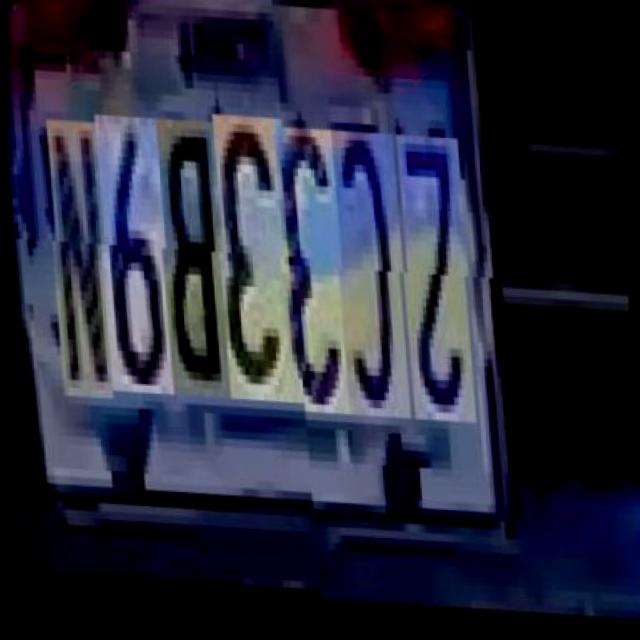2: (397, 132, 476, 423)
3: (213, 122, 293, 413), (275, 126, 350, 416)
9: (96, 124, 175, 406)
b: (157, 127, 232, 410)
c: (332, 128, 411, 419)
n: (47, 130, 113, 412)
